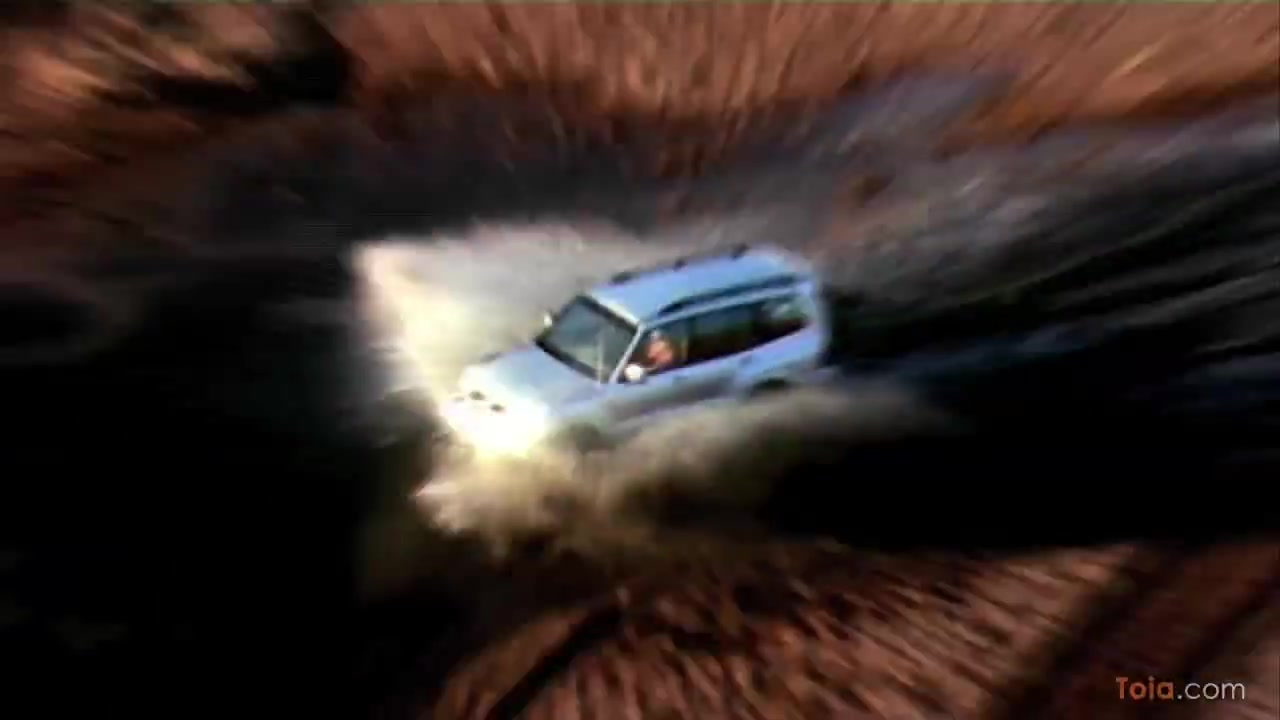car: (457, 240, 852, 448)
